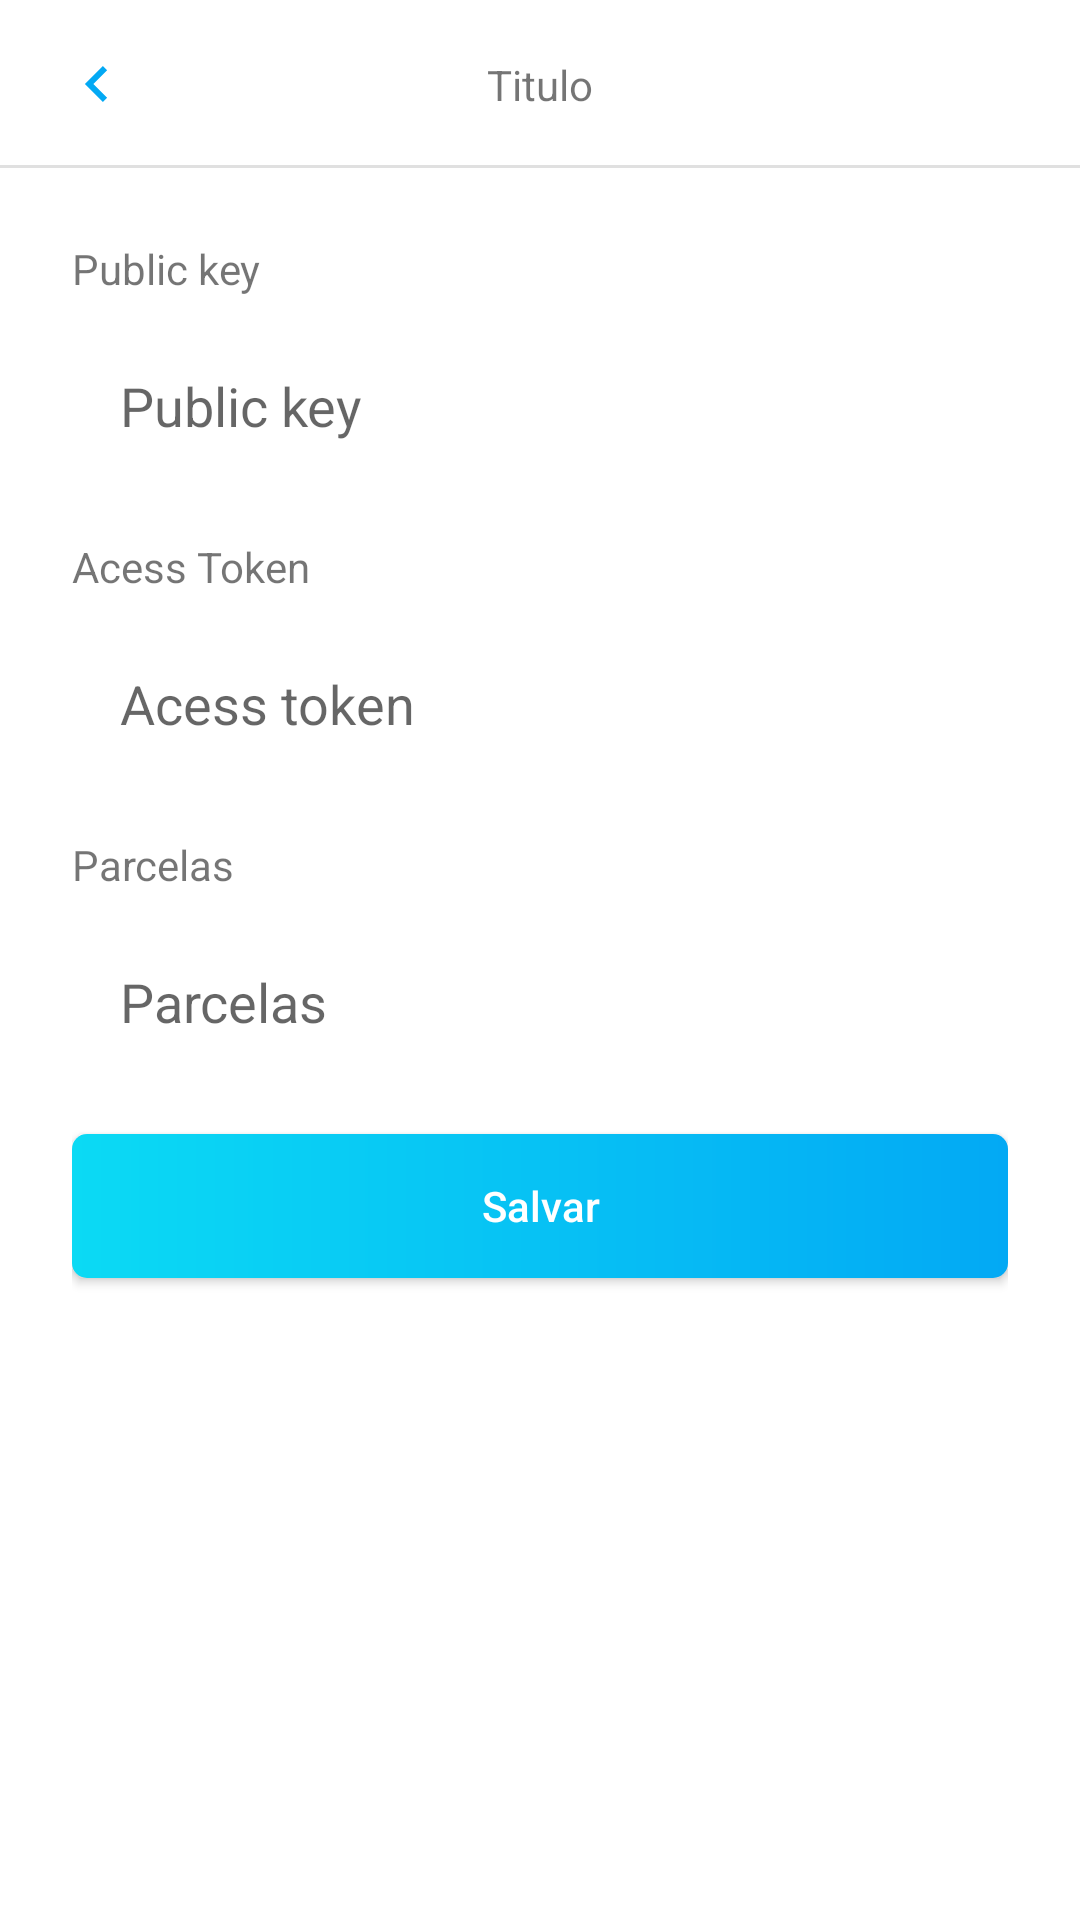

Screen size 1080*1920. Icon name, then its center in pixels as point (x, y):
voltar: point (96, 84)
